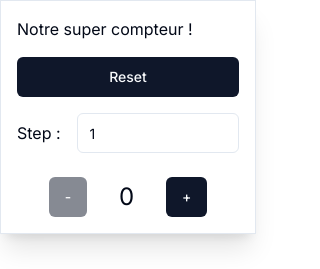
test du composant Counter avec les valeurs par défauts › Si on incremente deux fois, puis qu'on décremente une fois, 1 est affiché
The image size is (320, 269).
Click the button "+" at (187, 197), box [166,177,207,217]
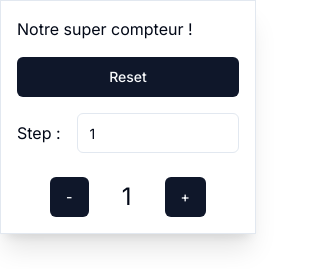
Click the button "+" at (185, 197), box [164,177,206,217]
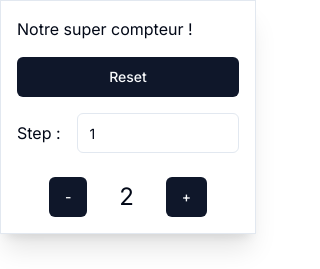
Click the button "-" at (68, 197), box [49,177,87,217]
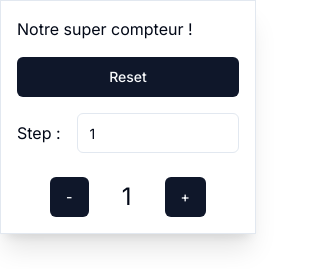
expect the text "1" is shown: met, box [122,181,132,213]
